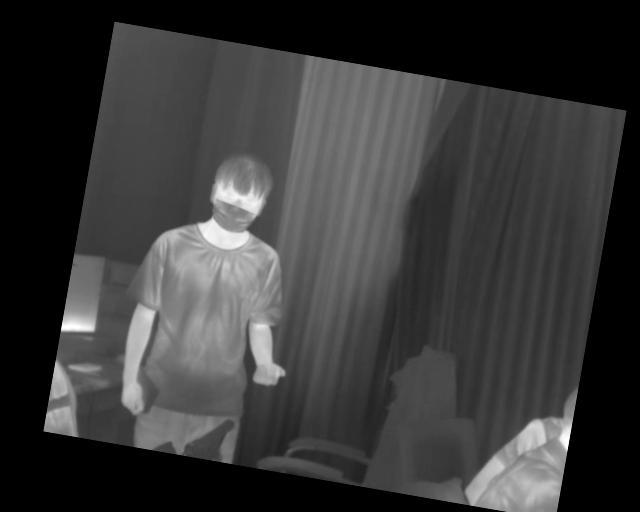face: (203, 149, 276, 239)
